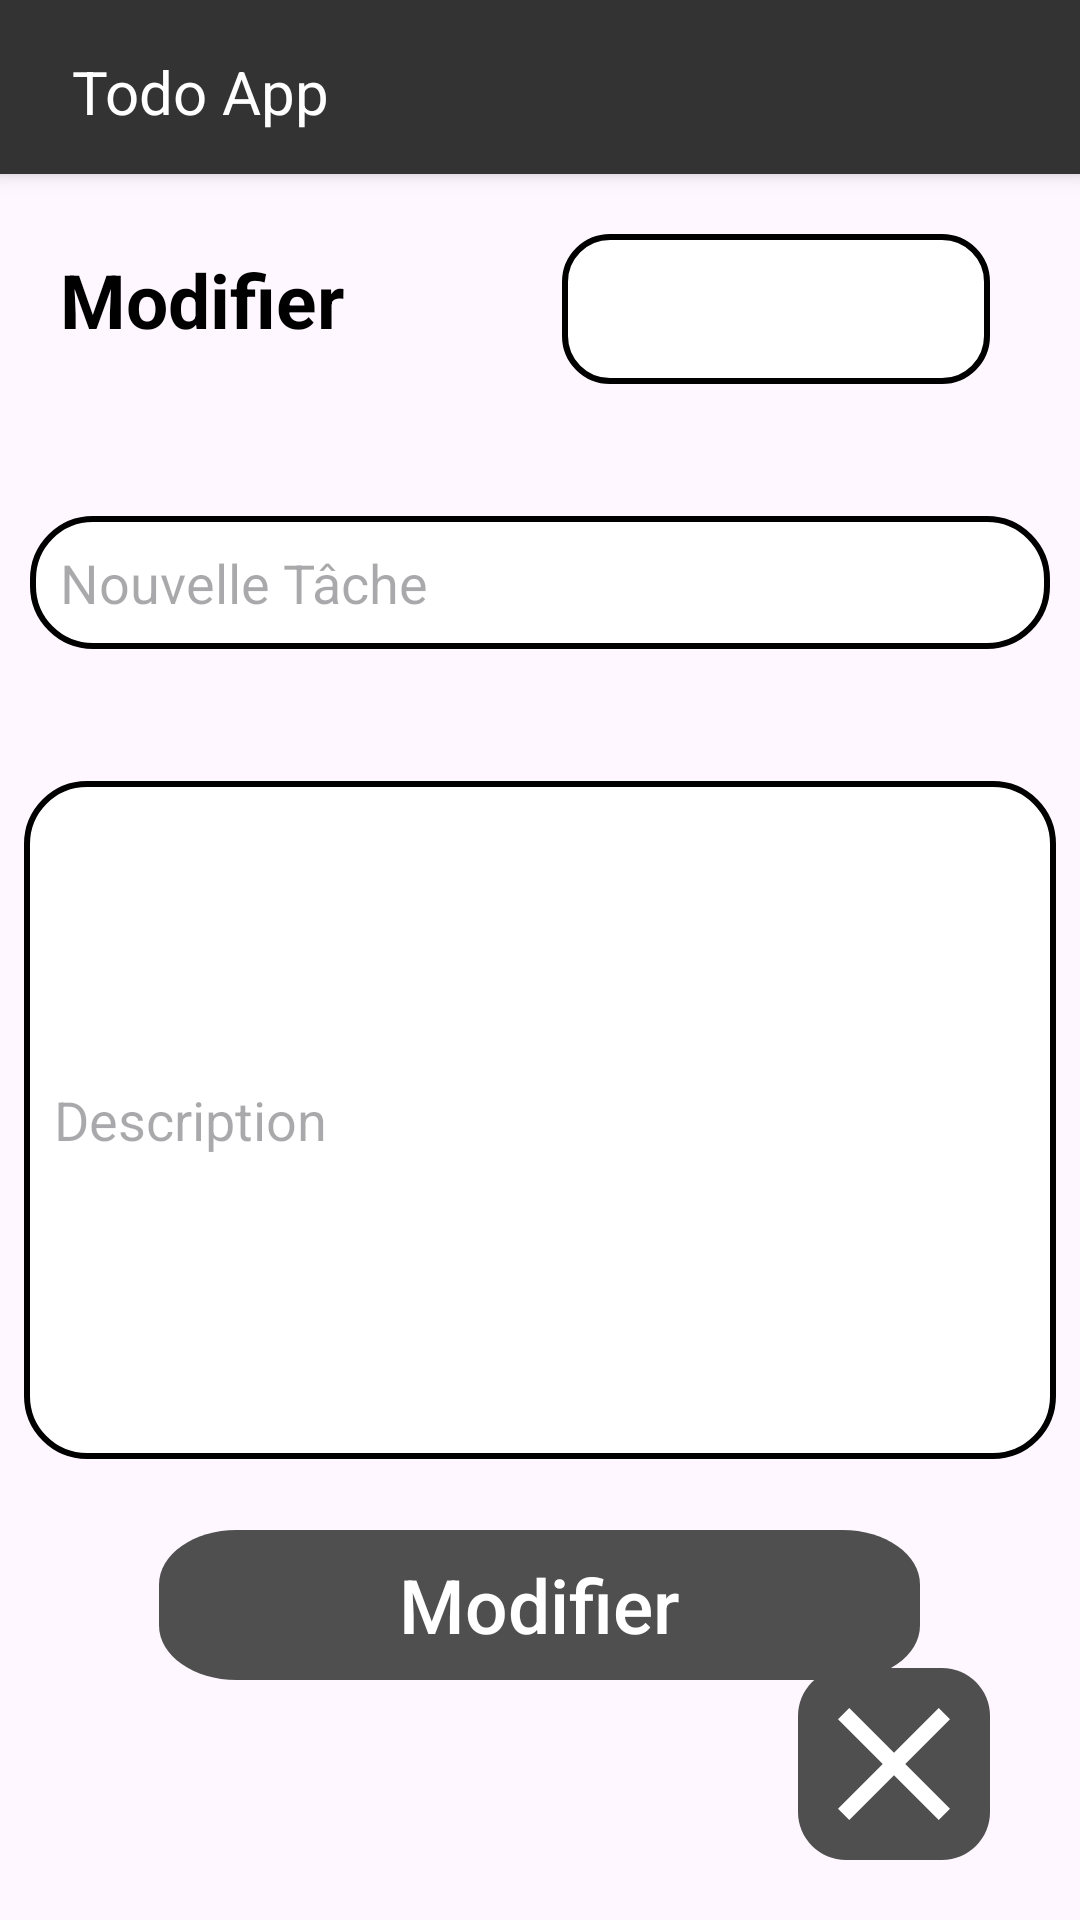

Screen size 1080x1920. Icon name, then its center in pixels as (x,y):
close: (894,1764)
